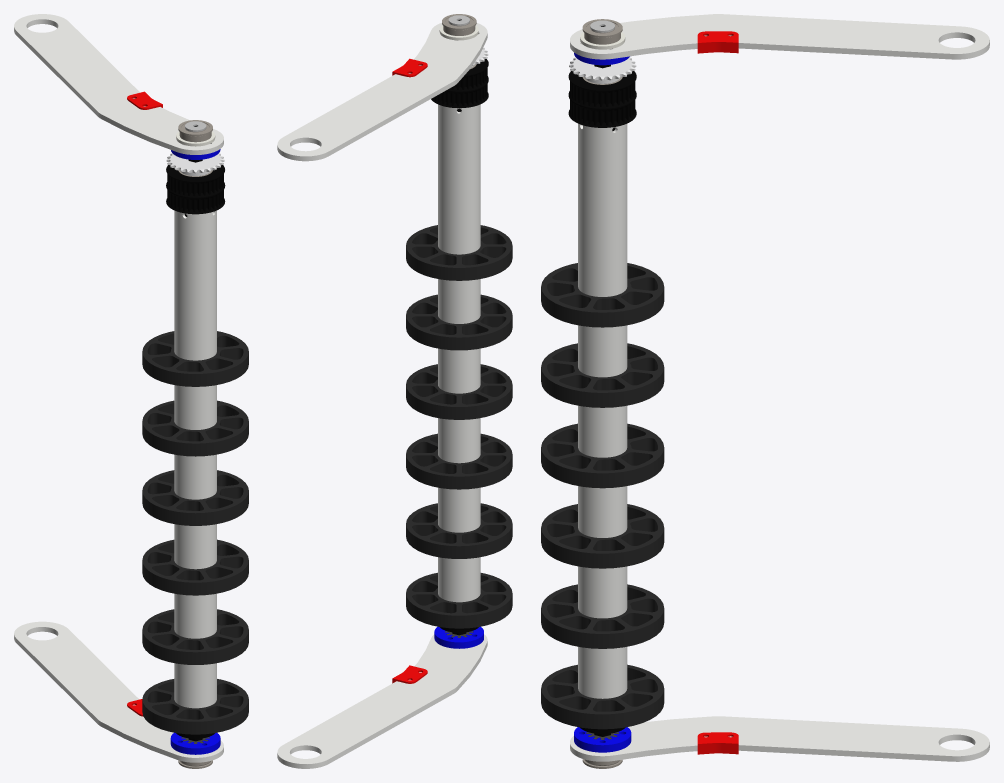
3 renders of one model, left to right at view 1: azimuth 30°, elevation 25°; view 2: azimuth 150°, elevation 25°; view 3: azimuth 270°, elevation 25°, orthographic. The views are drawn at different scales.
Parts seen in each view (by area): view 1: Pivot zombie tube v7:1, Back bar v25:2, Back bar v25:1, 3.5" Molded pivot zombie wheel v2:5, 3.5" Molded pivot zombie wheel v2:3, 3.5" Molded pivot zombie wheel v2:4, 3.5" Molded pivot zombie wheel v2:1, 3.5" Molded pivot zombie wheel v2:2, 3.5" Molded pivot zombie wheel v2:6, Compound (×2), am-3630 - S25-24HA-375H v2:1, Hex Bearing v1:2; view 2: Pivot zombie tube v7:1, Back bar v25:2, Back bar v25:1, 3.5" Molded pivot zombie wheel v2:5, 3.5" Molded pivot zombie wheel v2:3, 3.5" Molded pivot zombie wheel v2:1, 3.5" Molded pivot zombie wheel v2:6, 3.5" Molded pivot zombie wheel v2:2, 3.5" Molded pivot zombie wheel v2:4, Compound (×2), Hex Bearing v1:2, Elbow stoppers v4:1; view 3: Pivot zombie tube v7:1, Back bar v25:2, Back bar v25:1, 3.5" Molded pivot zombie wheel v2:6, 3.5" Molded pivot zombie wheel v2:3, 3.5" Molded pivot zombie wheel v2:1, 3.5" Molded pivot zombie wheel v2:4, 3.5" Molded pivot zombie wheel v2:2, 3.5" Molded pivot zombie wheel v2:5, Compound (×2), am-3630 - S25-24HA-375H v2:1, Elbow stoppers v4:2 (+1 smaller).
Part boxes in pixels (bbox=[...]): Pivot zombie tube v7:1: bbox=[174, 210, 216, 708]; Back bar v25:2: bbox=[14, 14, 223, 154]; Back bar v25:1: bbox=[14, 621, 223, 762]; 3.5" Molded pivot zombie wheel v2:5: bbox=[142, 400, 248, 456]; 3.5" Molded pivot zombie wheel v2:3: bbox=[142, 539, 248, 595]; 3.5" Molded pivot zombie wheel v2:4: bbox=[142, 470, 248, 525]; 3.5" Molded pivot zombie wheel v2:1: bbox=[142, 679, 248, 734]; 3.5" Molded pivot zombie wheel v2:2: bbox=[142, 609, 248, 664]; 3.5" Molded pivot zombie wheel v2:6: bbox=[142, 331, 248, 386]; Compound (×2): bbox=[166, 165, 225, 754]; am-3630 - S25-24HA-375H v2:1: bbox=[166, 153, 224, 176]; Hex Bearing v1:2: bbox=[178, 120, 212, 142]; Pivot zombie tube v7:1: bbox=[438, 104, 480, 602]; Back bar v25:2: bbox=[277, 23, 487, 161]; Back bar v25:1: bbox=[277, 634, 487, 768]; 3.5" Molded pivot zombie wheel v2:5: bbox=[406, 294, 512, 350]; 3.5" Molded pivot zombie wheel v2:3: bbox=[406, 433, 512, 489]; 3.5" Molded pivot zombie wheel v2:1: bbox=[406, 572, 512, 628]; 3.5" Molded pivot zombie wheel v2:6: bbox=[406, 225, 512, 280]; 3.5" Molded pivot zombie wheel v2:2: bbox=[406, 503, 512, 558]; 3.5" Molded pivot zombie wheel v2:4: bbox=[406, 364, 512, 419]; Compound (×2): bbox=[431, 59, 488, 648]; Hex Bearing v1:2: bbox=[442, 14, 476, 35]; Elbow stoppers v4:1: bbox=[392, 665, 427, 683]; Pivot zombie tube v7:1: bbox=[578, 123, 627, 698]; Back bar v25:2: bbox=[570, 14, 989, 59]; Back bar v25:1: bbox=[570, 716, 989, 761]; 3.5" Molded pivot zombie wheel v2:6: bbox=[541, 263, 664, 327]; 3.5" Molded pivot zombie wheel v2:3: bbox=[541, 504, 664, 568]; 3.5" Molded pivot zombie wheel v2:1: bbox=[541, 664, 664, 729]; 3.5" Molded pivot zombie wheel v2:4: bbox=[541, 423, 664, 488]; 3.5" Molded pivot zombie wheel v2:2: bbox=[541, 584, 664, 648]; 3.5" Molded pivot zombie wheel v2:5: bbox=[541, 343, 664, 407]; Compound (×2): bbox=[568, 71, 636, 752]; am-3630 - S25-24HA-375H v2:1: bbox=[569, 57, 636, 83]; Elbow stoppers v4:2: bbox=[697, 31, 738, 53].
Bounding box in the file's own units: 0.0955 × 0.6286 × 0.3471.
